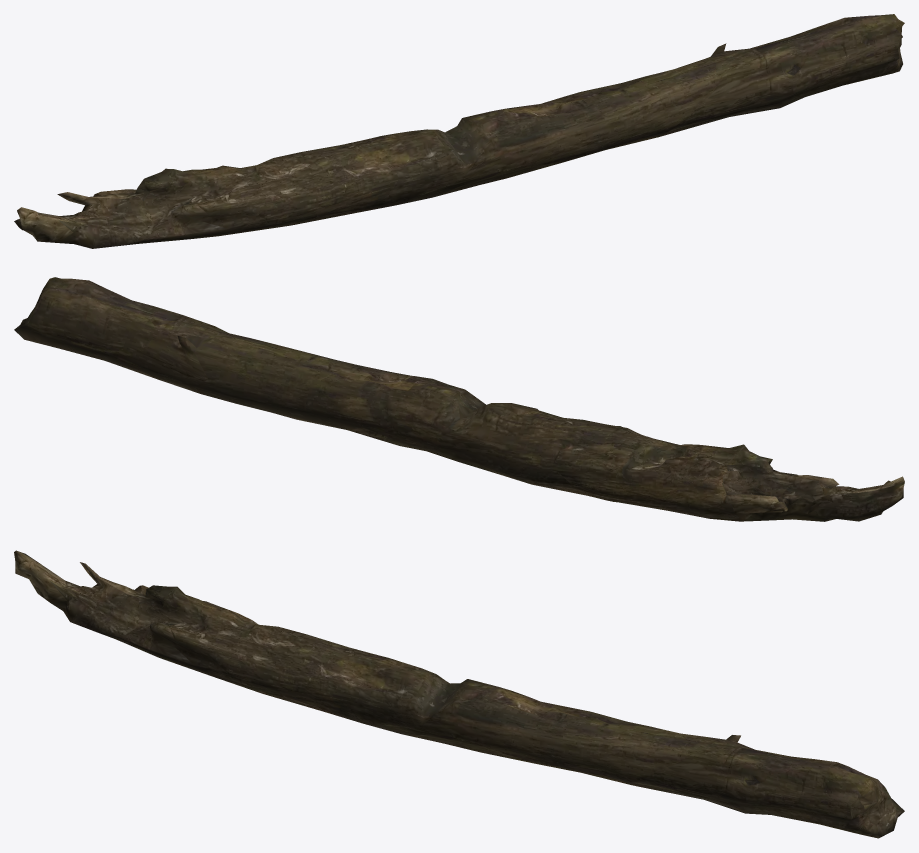
File: dead_tree_trunk.glb
The picture shows the model from 3 angles, top to bottom: view 1: azimuth 30°, elevation 25°; view 2: azimuth 150°, elevation 25°; view 3: azimuth 330°, elevation 25°; orthographic projection.
Parts seen in each view (by area): view 1: lod0; view 2: lod0; view 3: lod0.
Part boxes in pixels (box(x1,y1,x2,y2)): lod0: box(14, 14, 904, 248); lod0: box(14, 277, 904, 521); lod0: box(14, 550, 904, 838).
Size of what is drawn, in the model's own units: 7.48 by 0.7145 by 0.6768.
Materials: 1 (1 with a texture image).
